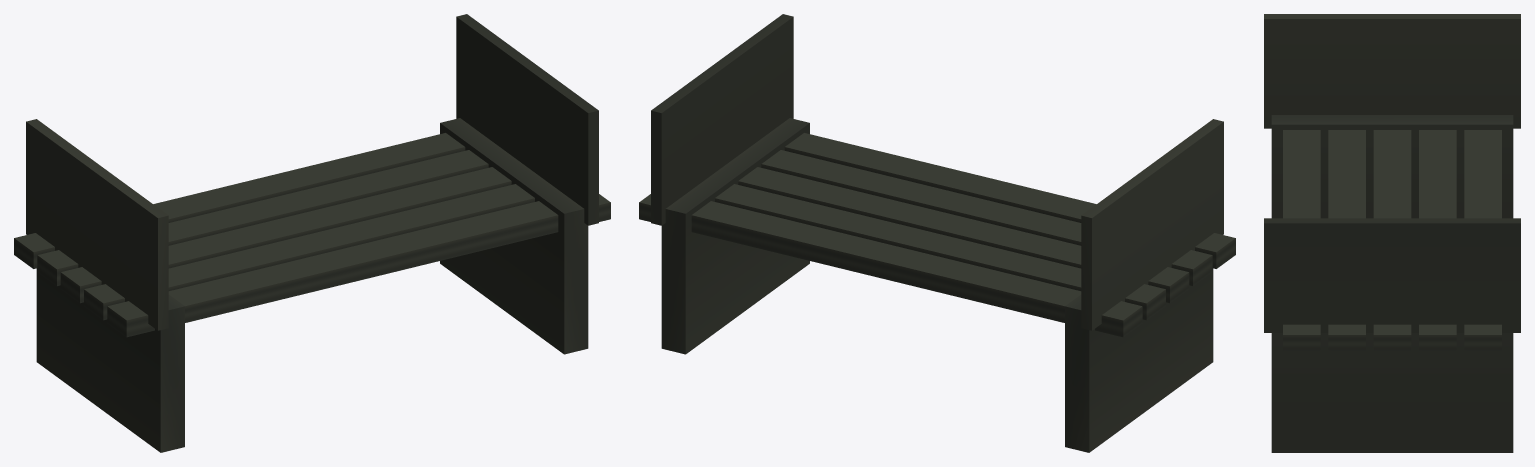
Rendered from prop_steel_girder_stack_a.glb.
The picture shows the model from 3 angles, left to right: view 1: azimuth 30°, elevation 25°; view 2: azimuth 150°, elevation 25°; view 3: azimuth 270°, elevation 25°; orthographic projection. The views are drawn at different scales.
Parts seen in each view (by area): view 1: prop_steel_girder_stack_a; view 2: prop_steel_girder_stack_a; view 3: prop_steel_girder_stack_a.
Boxes of the visible parts, <box> form: prop_steel_girder_stack_a: <box>14,14,610,452</box>; prop_steel_girder_stack_a: <box>639,14,1235,452</box>; prop_steel_girder_stack_a: <box>1264,14,1520,452</box>.
Bounding box in the file's own units: 3.6 × 1.7 × 1.7.
1 material, 1 textured.
